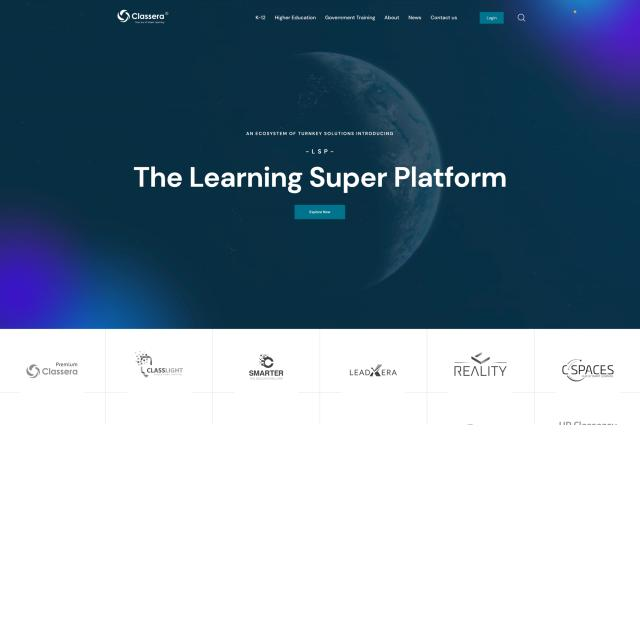logo: (114, 6, 173, 29)
navigation: (252, 9, 460, 27)
